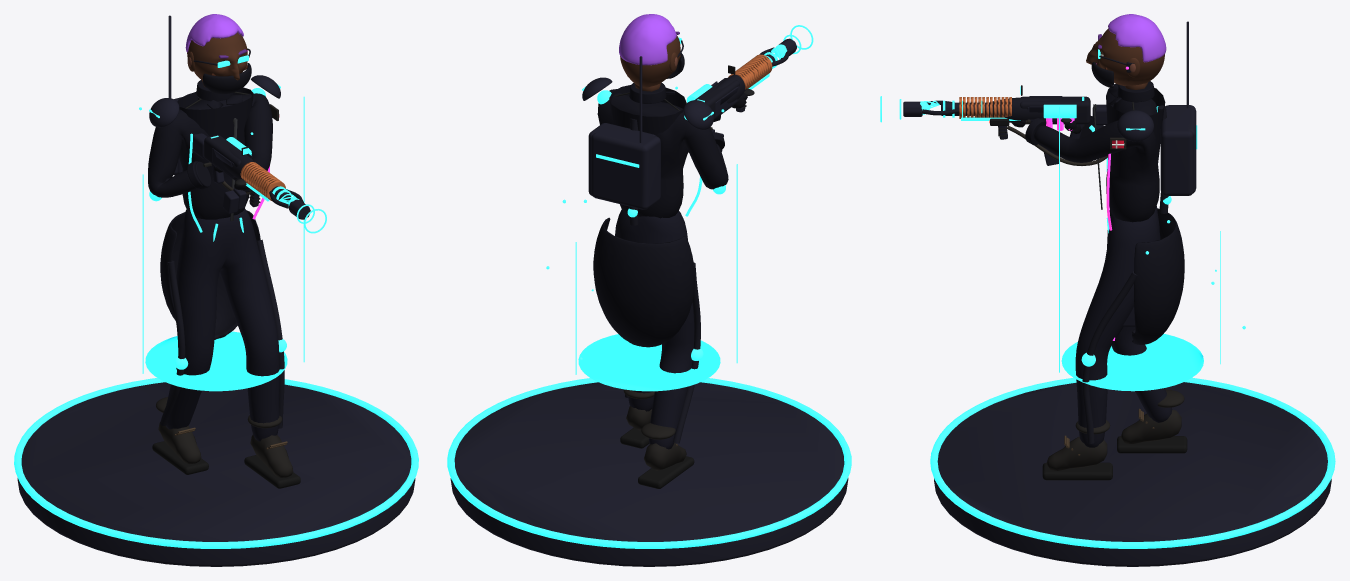
Rendered from lyn_neon.glb.
3 views of the same model, side by side, from view 1: azimuth 30°, elevation 25°; view 2: azimuth 150°, elevation 25°; view 3: azimuth 270°, elevation 25° (orthographic).
Parts seen in each view (by area): view 1: fod_net, menneske_net, op4_net, hoved_net, vaaben_net, op4.002_net, op3_net, op4.001_net, op3.001_net; view 2: fod_net, menneske_net, op4.002_net, op4_net, hoved_net, vaaben_net, op3_net, ned4_net; view 3: fod_net, menneske_net, op4_net, hoved_net, vaaben_net, ned4_net, op4.002_net, op3_net, op1_net, op3.001_net.
Boxes of the visible parts, x1,y1,x2,y2 form: fod_net: [14, 378, 418, 566]; menneske_net: [148, 80, 300, 488]; op4_net: [139, 96, 304, 391]; hoved_net: [185, 14, 251, 94]; vaaben_net: [204, 134, 303, 208]; op4.002_net: [149, 88, 286, 428]; op3_net: [149, 15, 280, 127]; op4.001_net: [223, 183, 326, 233]; op3.001_net: [210, 135, 310, 219]; fod_net: [447, 378, 851, 566]; menneske_net: [593, 82, 754, 488]; op4.002_net: [591, 90, 725, 443]; op4_net: [546, 86, 737, 391]; hoved_net: [619, 14, 684, 87]; vaaben_net: [686, 44, 790, 119]; op3_net: [582, 56, 713, 142]; ned4_net: [588, 123, 656, 195]; fod_net: [930, 377, 1335, 566]; menneske_net: [1012, 81, 1187, 480]; op4_net: [1059, 106, 1245, 391]; hoved_net: [1086, 14, 1166, 87]; vaaben_net: [920, 96, 1090, 138]; ned4_net: [1160, 107, 1193, 195]; op4.002_net: [1081, 105, 1197, 443]; op3_net: [1117, 21, 1188, 141]; op1_net: [977, 105, 1107, 165]; op3.001_net: [903, 97, 1084, 121].
Size of the model in its own units: 1.94 by 2.47 by 2.17.
